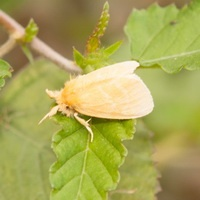insect: (39, 61, 153, 140)
